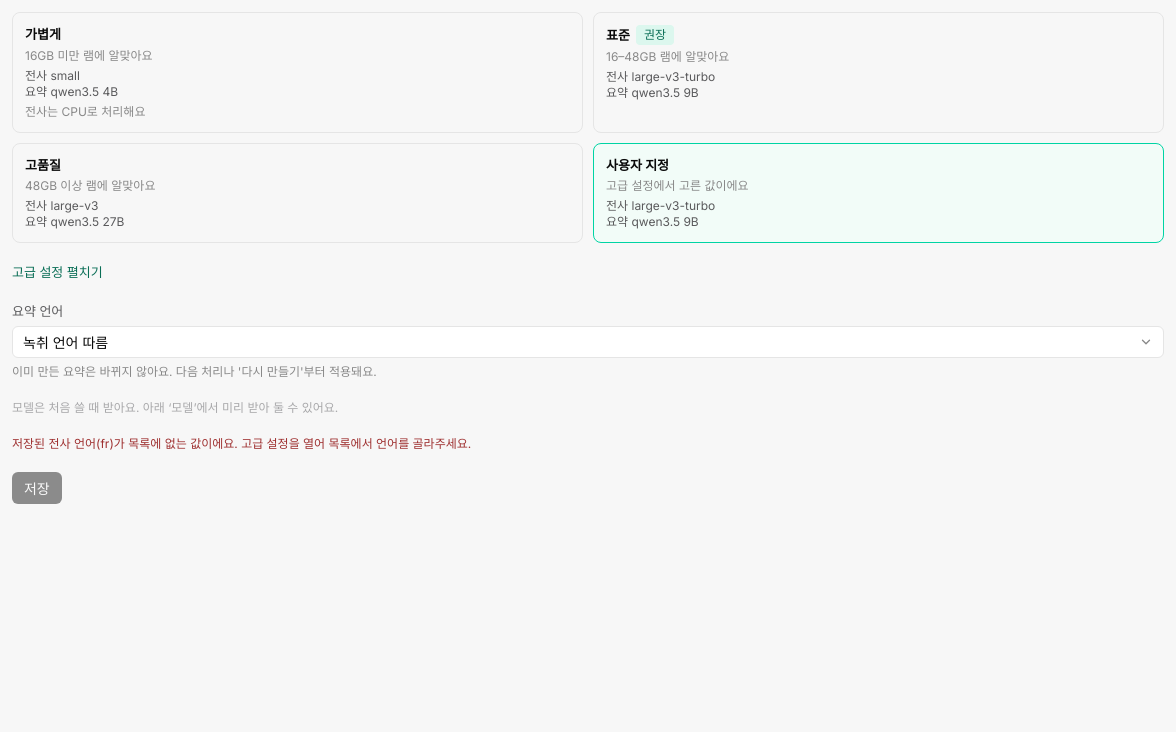
Test: 카탈로그 밖 언어가 저장돼 있으면 그 값을 목록에 얹어 보여준다
Expected: the radio button labelled "표준 권장 16–48GB 램에 알맞아요 전사 large-v3-turbo 요약 qwen3.5 9B" is shown, [593, 12, 1164, 133]
Click the button "고급 설정 펼치기" at (57, 272), box [12, 263, 103, 282]
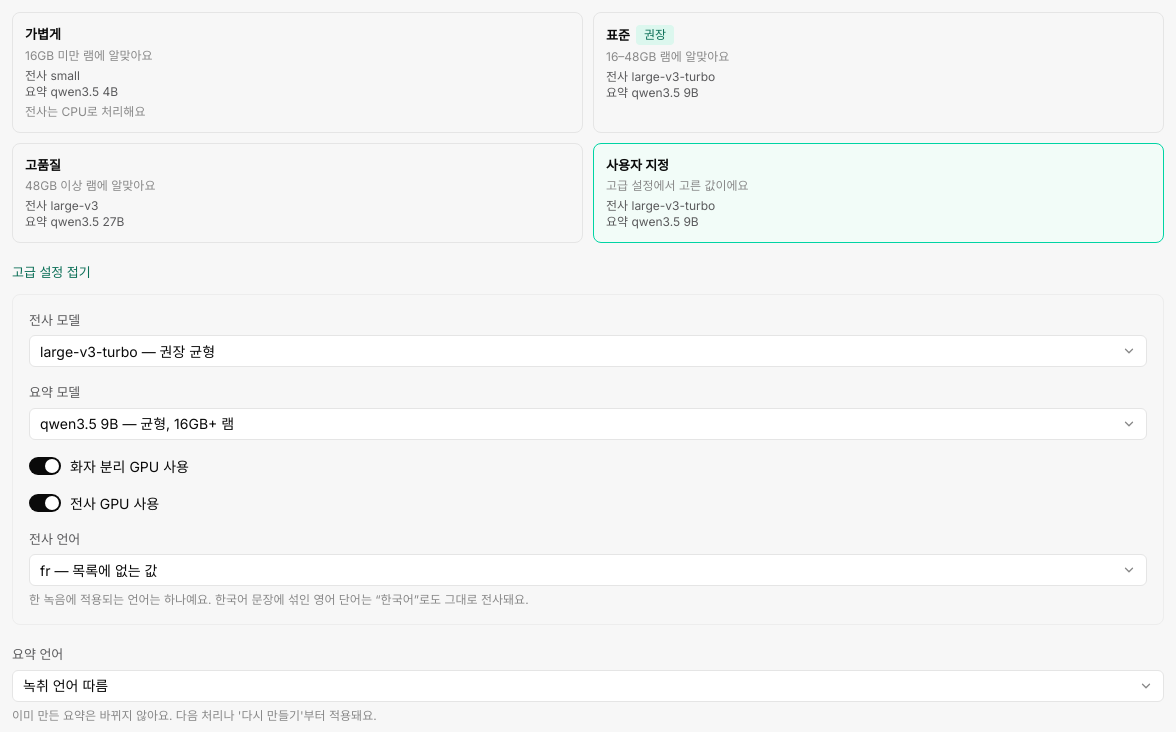
Expected: the dropdown named "전사 언어" shows "fr", [29, 554, 1147, 586]
